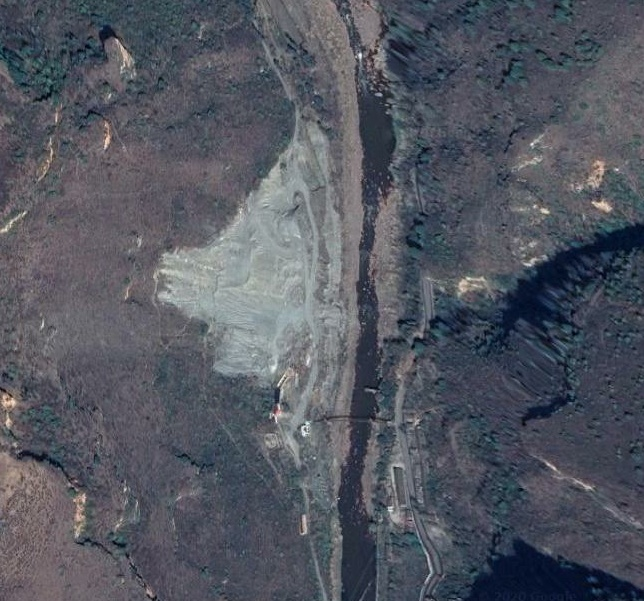slope: (153, 114, 337, 387), (576, 155, 614, 219), (453, 268, 501, 307)
